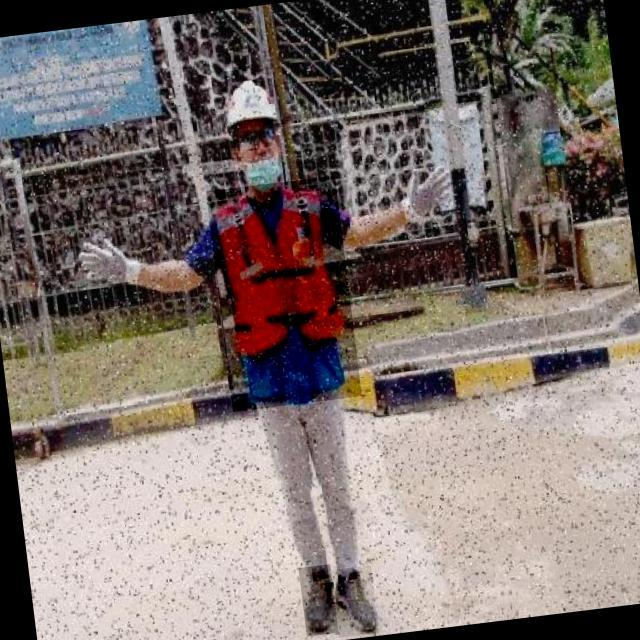Gloves: (78, 222, 146, 304), (399, 159, 456, 233)
Helmet: (221, 78, 280, 132)
Person: (73, 63, 469, 640)
Safety Boot: (331, 565, 379, 637), (298, 564, 338, 636)
Safety Vest: (206, 176, 362, 412)
